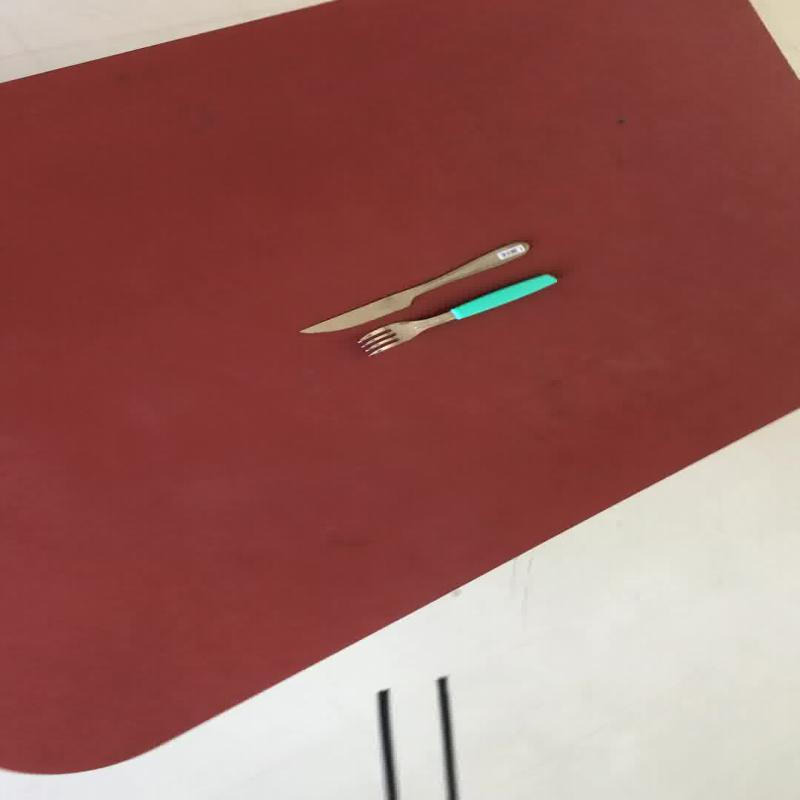fork: (354, 272, 556, 356)
knife: (296, 238, 531, 334)
